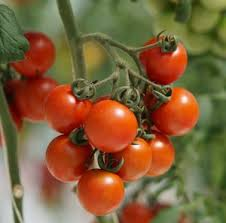tomato: (85, 98, 140, 154), (44, 135, 97, 184), (11, 30, 57, 78), (45, 85, 89, 134), (142, 37, 187, 84), (152, 91, 198, 136), (17, 78, 57, 124), (79, 171, 122, 211), (137, 133, 175, 177), (112, 138, 151, 178)
